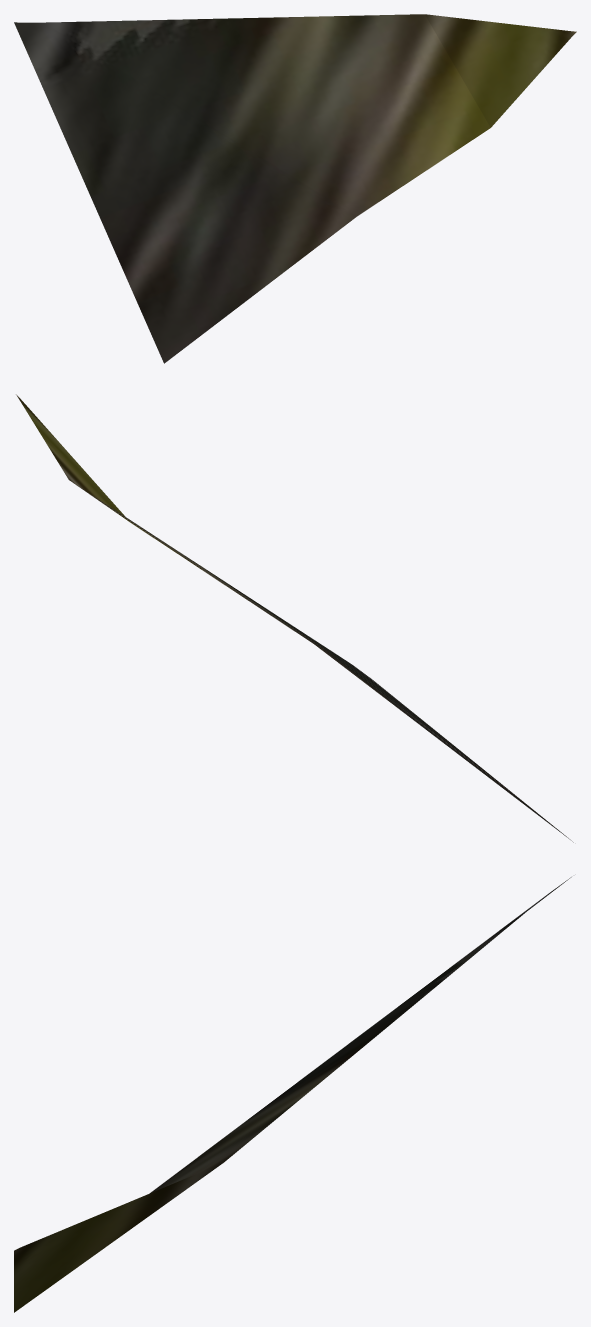
The picture shows the model from 3 angles, top to bottom: view 1: azimuth 30°, elevation 25°; view 2: azimuth 150°, elevation 25°; view 3: azimuth 270°, elevation 25°; orthographic projection. The views are drawn at different scales.
Size of the model in its own units: 0.5023 by 0.2691 by 0.3165.
1 material, 1 textured.
